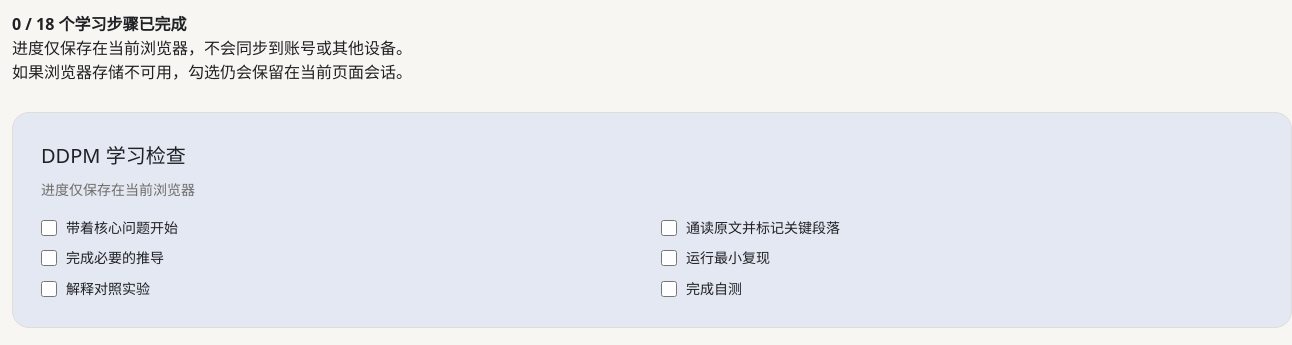
it: AlgorithmProgress › keeps the current render interactive when browser storage is unavailable
This screenshot has width=1292, height=345.
Click the checkbox labelled "带着核心问题开始": (49, 228) [41,220,57,236]
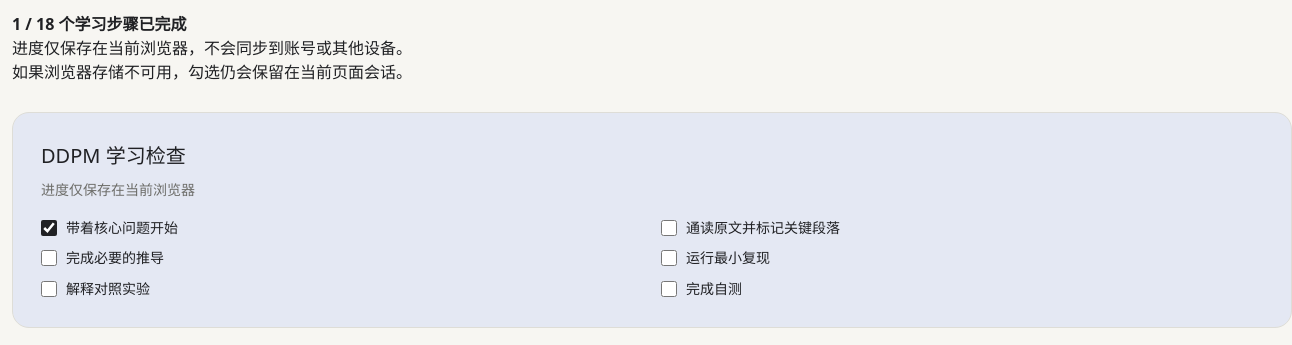
Expected: the text "进度仅保存在当前浏览器" is shown, [41,180,195,199]
Result: the checkbox labelled "带着核心问题开始" is checked at [41,220,57,236]
Result: the text "1 / 18 个学习步骤已完成" is shown at [12,13,187,35]
